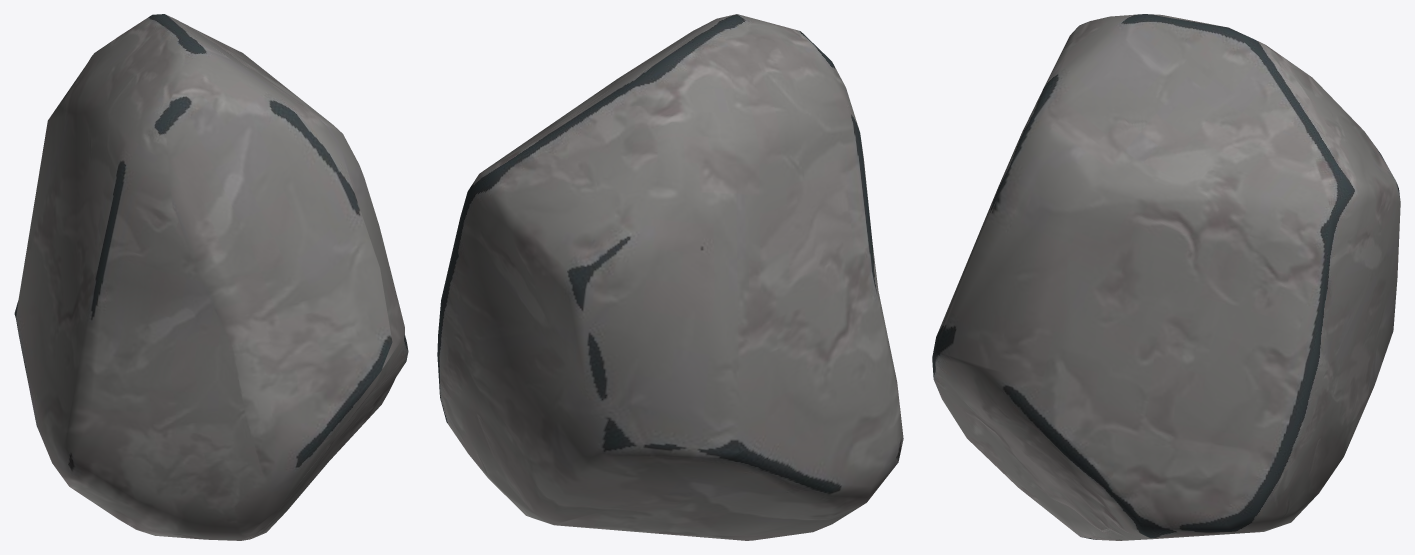
Rendered from SM_Batu2.fbx.
3 views of the same model, side by side, from view 1: azimuth 30°, elevation 25°; view 2: azimuth 150°, elevation 25°; view 3: azimuth 270°, elevation 25° (orthographic). The views are drawn at different scales.
Visible parts, largest first — view 1: L_Stone1; view 2: L_Stone1; view 3: L_Stone1.
Boxes of the visible parts, x1,y1,x2,y2 form: L_Stone1: (14, 14, 408, 540); L_Stone1: (437, 14, 903, 540); L_Stone1: (932, 14, 1400, 540).
Size of the model in its own units: 199 by 263 by 222.
